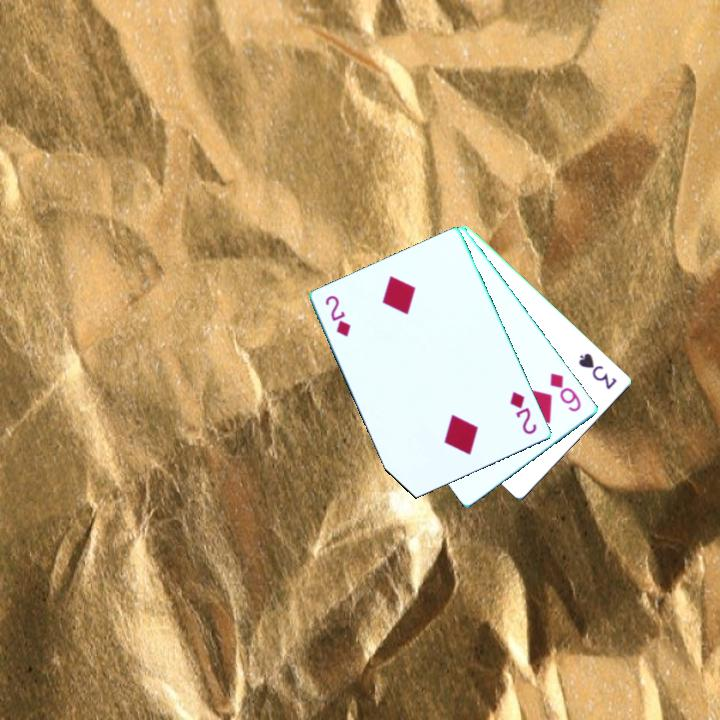2d: (506, 388, 540, 438), (322, 292, 354, 340)
3s: (575, 349, 620, 392)
6d: (547, 369, 584, 415)
